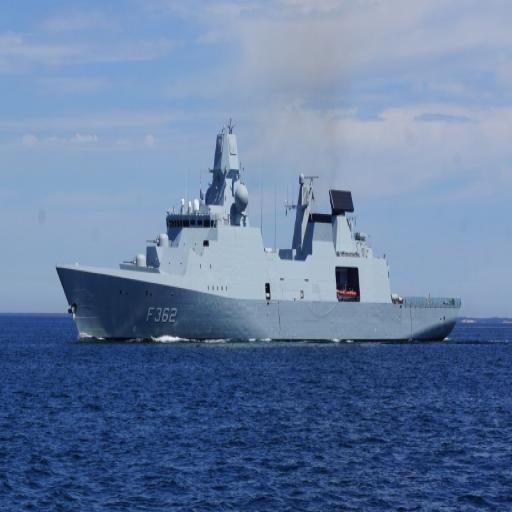Fragata: (55, 116, 464, 352)
